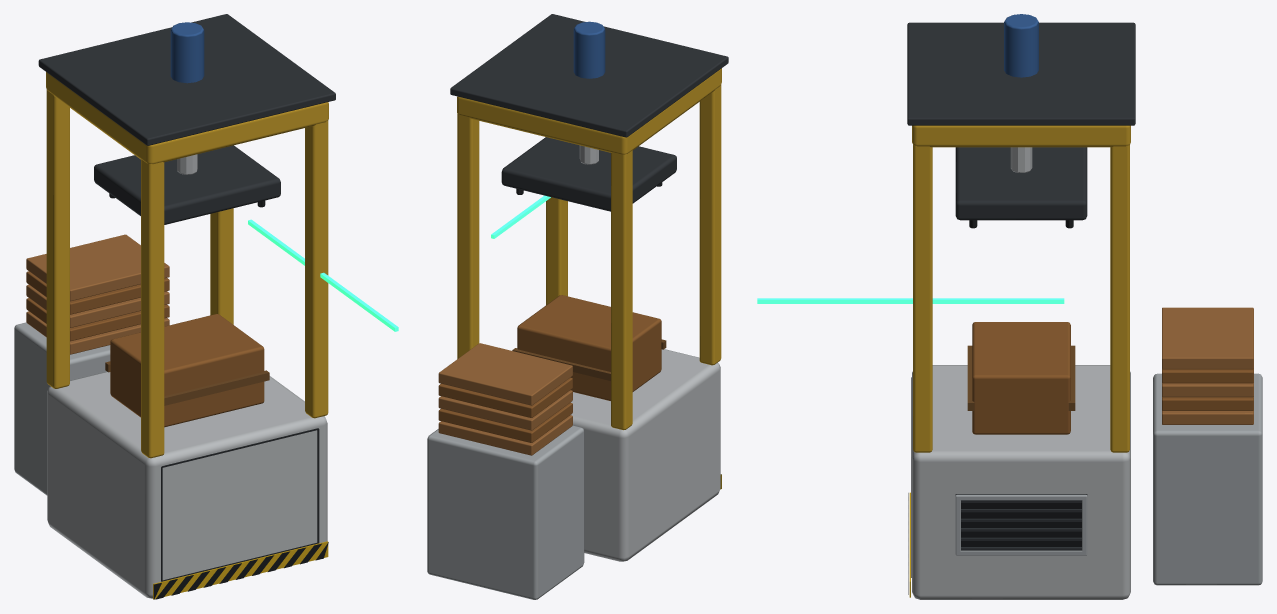
The model's file is lc_bagger.glb.
The picture shows the model from 3 angles, left to right: view 1: azimuth 30°, elevation 25°; view 2: azimuth 150°, elevation 25°; view 3: azimuth 270°, elevation 25°; orthographic projection. The views are drawn at different scales.
Parts seen in each view (by area): view 1: block.001, block.022, block.024, block.023, block.019, block.020, block.017, block.032, block.021, block.031, block.018, cyl.001 (+7 smaller); view 2: block.032, block.001, block.022, block.024, block.023, block.019, block.017, block.018, block.031, block.021, block.020, cyl.001 (+6 smaller); view 3: block.001, block.022, block.032, block.024, block.023, block.018, block.020, block.031, block.021, block.006, cyl.001, led (+6 smaller).
Boxes of the visible parts, left/top/right/bottom form: block.001: left=47, top=371, right=327, bottom=598; block.022: left=38, top=14, right=335, bottom=145; block.024: left=110, top=314, right=264, bottom=427; block.023: left=94, top=145, right=280, bottom=224; block.019: left=141, top=159, right=164, bottom=458; block.020: left=305, top=121, right=328, bottom=418; block.017: left=46, top=89, right=69, bottom=388; block.032: left=14, top=322, right=110, bottom=495; block.021: left=46, top=72, right=328, bottom=163; block.031: left=26, top=234, right=169, bottom=301; block.018: left=210, top=208, right=233, bottom=324; cyl.001: left=170, top=22, right=204, bottom=83; block.032: left=427, top=425, right=584, bottom=599; block.001: left=571, top=349, right=720, bottom=561; block.022: left=450, top=14, right=728, bottom=137; block.024: left=517, top=295, right=661, bottom=400; block.023: left=501, top=137, right=676, bottom=211; block.019: left=699, top=85, right=721, bottom=365; block.017: left=611, top=150, right=632, bottom=430; block.018: left=457, top=114, right=479, bottom=358; block.031: left=438, top=343, right=572, bottom=405; block.021: left=457, top=68, right=721, bottom=154; block.020: left=546, top=197, right=567, bottom=304; cyl.001: left=573, top=21, right=605, bottom=78; block.001: left=912, top=365, right=1130, bottom=599; block.022: left=907, top=22, right=1135, bottom=125; block.032: left=1153, top=373, right=1262, bottom=585; block.024: left=972, top=322, right=1070, bottom=434; block.023: left=955, top=147, right=1087, bottom=220; block.018: left=1110, top=144, right=1129, bottom=452; block.020: left=913, top=144, right=932, bottom=452; block.031: left=1162, top=307, right=1253, bottom=369; block.021: left=912, top=125, right=1130, bottom=147; block.006: left=955, top=494, right=1087, bottom=546; cyl.001: left=1004, top=14, right=1038, bottom=77; led: left=757, top=298, right=1064, bottom=303.
Bounding box in the file's own units: 1.04 × 2.7 × 2.3.
